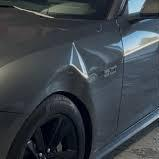dent: (63, 36, 123, 87)
